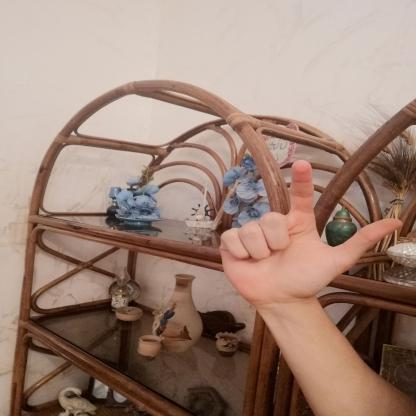LAAM: (202, 154, 414, 318)
